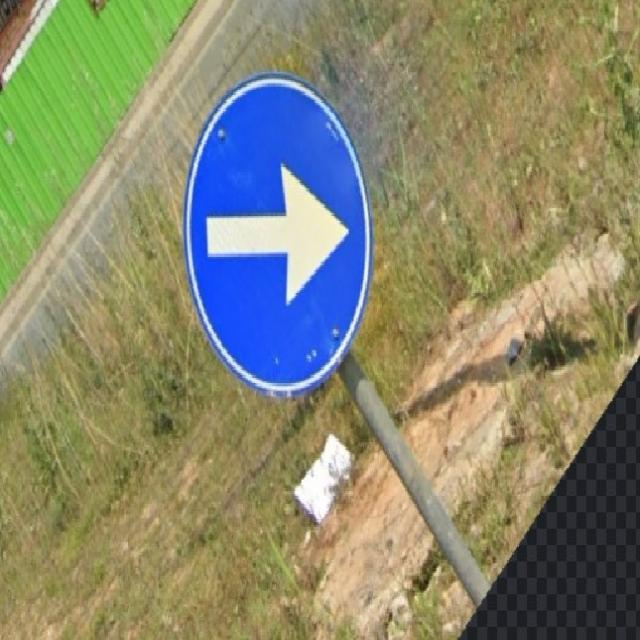Turn Right: (192, 80, 366, 383)
